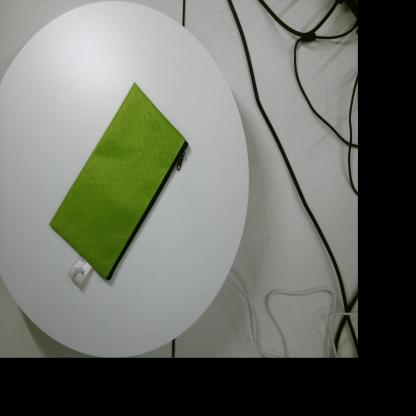Stationery: (49, 82, 188, 286)
